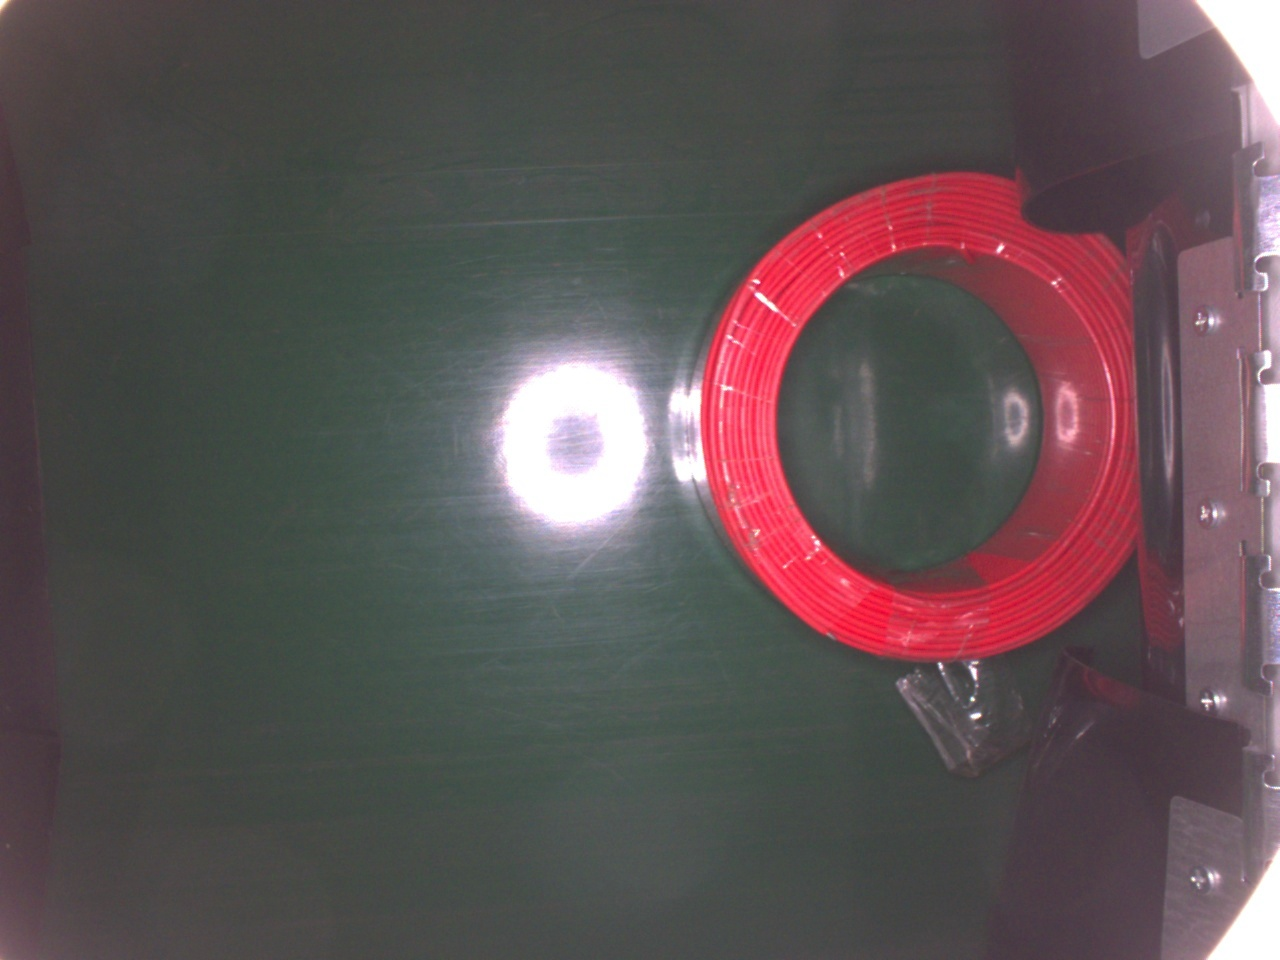red: (683, 171, 1139, 662)
